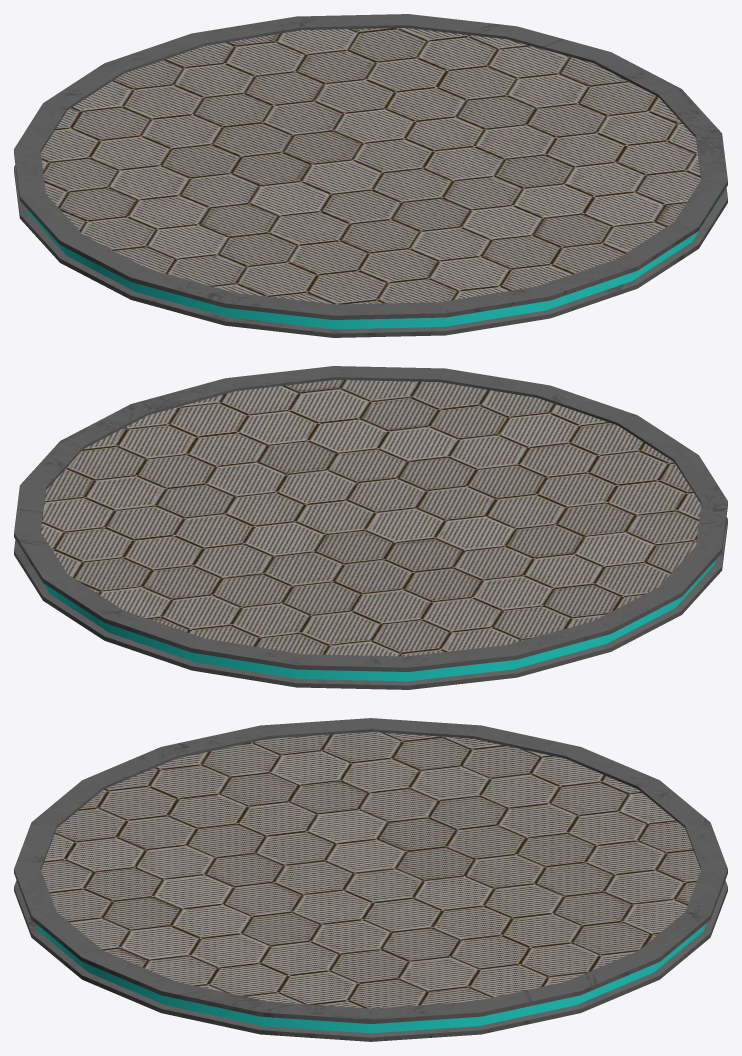
File: round_platform-transformed.glb
3 views of the same model, one above another, from view 1: azimuth 30°, elevation 25°; view 2: azimuth 150°, elevation 25°; view 3: azimuth 270°, elevation 25° (orthographic).
Visible parts, largest first — view 1: pCylinder1; view 2: pCylinder1; view 3: pCylinder1.
Part boxes in pixels (x1,y1,x2,y2): pCylinder1: (14,14,727,337); pCylinder1: (14,366,727,689); pCylinder1: (14,718,727,1041).
Size of the model in its own units: 5.09 by 0.1741 by 5.09.
Materials: 1 (1 with a texture image).
